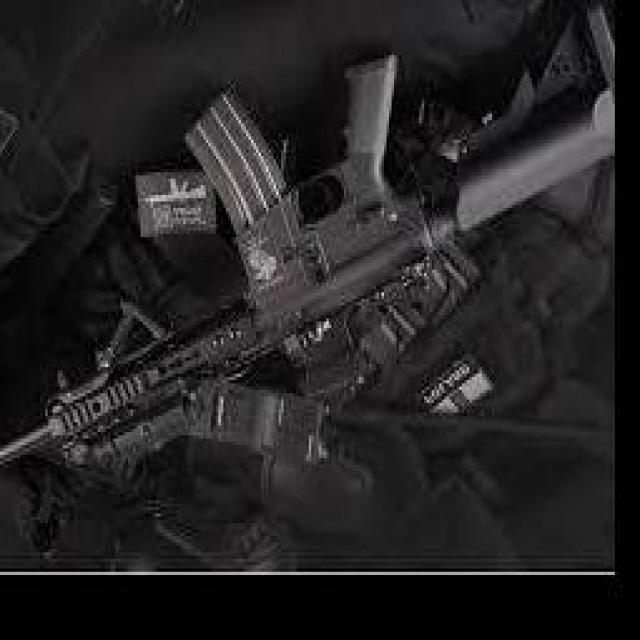weapon: (0, 2, 616, 466)
